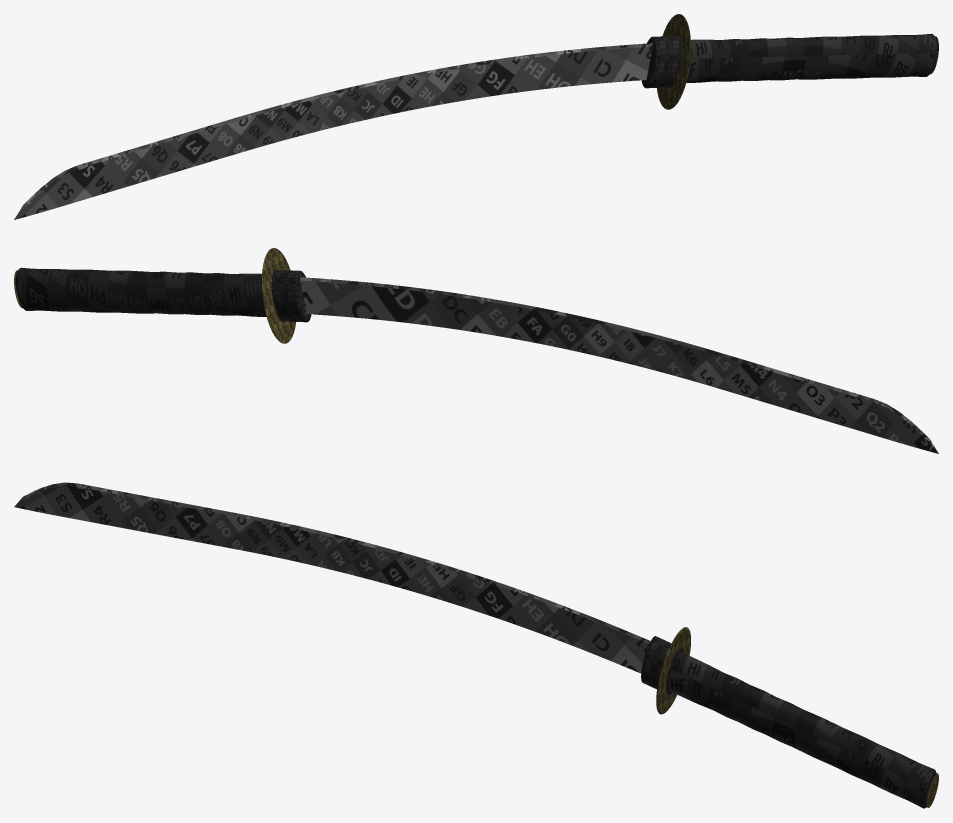
The model's file is Samurai_Sword.fbx.
3 views of the same model, one above another, from view 1: azimuth 30°, elevation 25°; view 2: azimuth 150°, elevation 25°; view 3: azimuth 330°, elevation 25° (orthographic).
Visible parts, largest first — view 1: pCube1, polySurface4, polySurface1; view 2: pCube1, polySurface4, polySurface1; view 3: pCube1, polySurface4, polySurface1.
Boxes of the visible parts, box(x1,y1,x2,y2) form: pCube1: box(14, 43, 652, 219); polySurface4: box(641, 33, 937, 88); polySurface1: box(657, 14, 690, 109); pCube1: box(300, 277, 938, 453); polySurface4: box(15, 267, 311, 322); polySurface1: box(262, 248, 295, 343); pCube1: box(14, 482, 650, 673); polySurface4: box(641, 636, 936, 808); polySurface1: box(656, 627, 690, 714).
Bounding box in the file's own units: 29.45 × 3.96 × 1.64.
